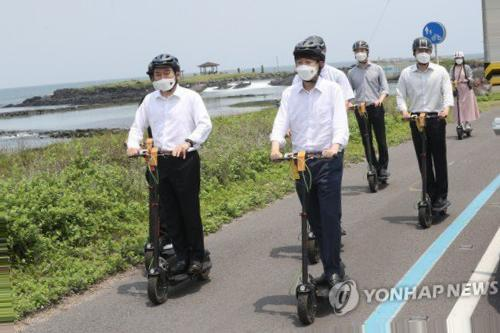scooter: (126, 148, 213, 306), (271, 152, 348, 327), (402, 111, 450, 228), (348, 100, 390, 194)
with helmet: (291, 38, 327, 82), (148, 51, 181, 92), (412, 34, 433, 66), (352, 40, 370, 64), (453, 50, 465, 65)
